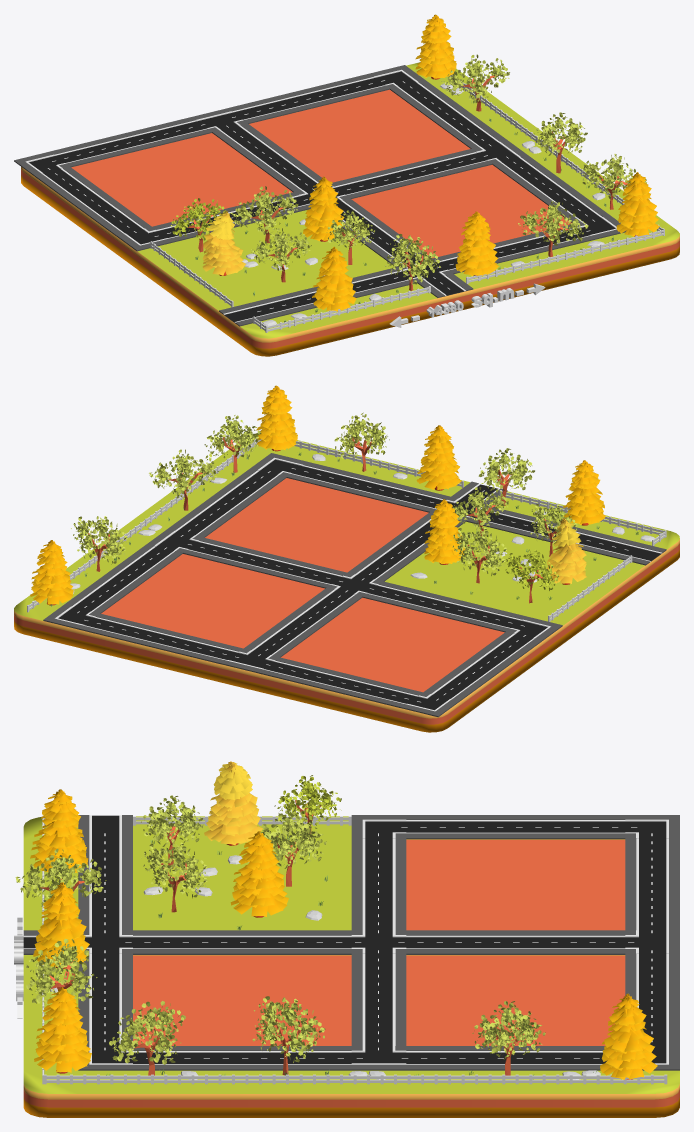
File: VillaNB.glb
3 renders of one model, top to bottom at view 1: azimuth 30°, elevation 25°; view 2: azimuth 150°, elevation 25°; view 3: azimuth 270°, elevation 25°, orthographic. The views are drawn at different scales.
Visible parts, largest first — view 1: 3.004, 1.145, 1.128, 1.130, 1.141, 1.131, 1.143, 1.139, 1.136, Cube.233, 1.135, Pine.030 (+25 smaller); view 2: 3.004, 1.128, 1.145, 1.130, 1.129, 1.135, 1.131, 1.143, 1.136, 1.139, 1.141, 1.142 (+26 smaller); view 3: 3.004, 1.141, 1.139, 1.131, Cube.233, 1.142, 1.129, 1.130, 1.128, 1.136, 1.143, 1.135 (+25 smaller).
Part boxes in pixels (x1,y1,x2,y2): 3.004: (21, 62, 679, 356); 1.145: (227, 73, 389, 123); 1.128: (50, 117, 211, 167); 1.130: (331, 148, 492, 198); 1.141: (219, 267, 417, 326); 1.131: (34, 166, 151, 236); 1.143: (390, 80, 506, 148); 1.139: (212, 123, 321, 192); 1.136: (492, 155, 609, 222); Cube.233: (449, 75, 664, 277); 1.135: (432, 225, 594, 273); Pine.030: (455, 211, 499, 276); 3.004: (14, 433, 679, 732); 1.128: (258, 657, 422, 708); 1.145: (79, 613, 243, 664); 1.130: (183, 537, 346, 588); 1.129: (362, 581, 526, 632); 1.135: (286, 461, 450, 512); 1.131: (423, 631, 541, 701); 1.143: (64, 544, 182, 613); 1.136: (168, 468, 286, 537); 1.139: (244, 588, 362, 657); 1.141: (466, 506, 666, 565); 1.142: (347, 512, 466, 581); 3.004: (14, 816, 679, 1117); 1.141: (78, 815, 132, 931); 1.139: (406, 930, 625, 954); 1.131: (406, 815, 625, 839); Cube.233: (42, 964, 667, 1084); 1.142: (133, 930, 351, 954); 1.129: (351, 838, 406, 931); 1.130: (351, 953, 406, 1046); 1.128: (625, 838, 679, 931); 1.136: (133, 1046, 351, 1070); 1.143: (406, 1046, 607, 1070); 1.135: (78, 953, 132, 1046).
Bounding box in the file's own units: 12.05 × 2.21 × 12.17.
1 material, 1 textured.
